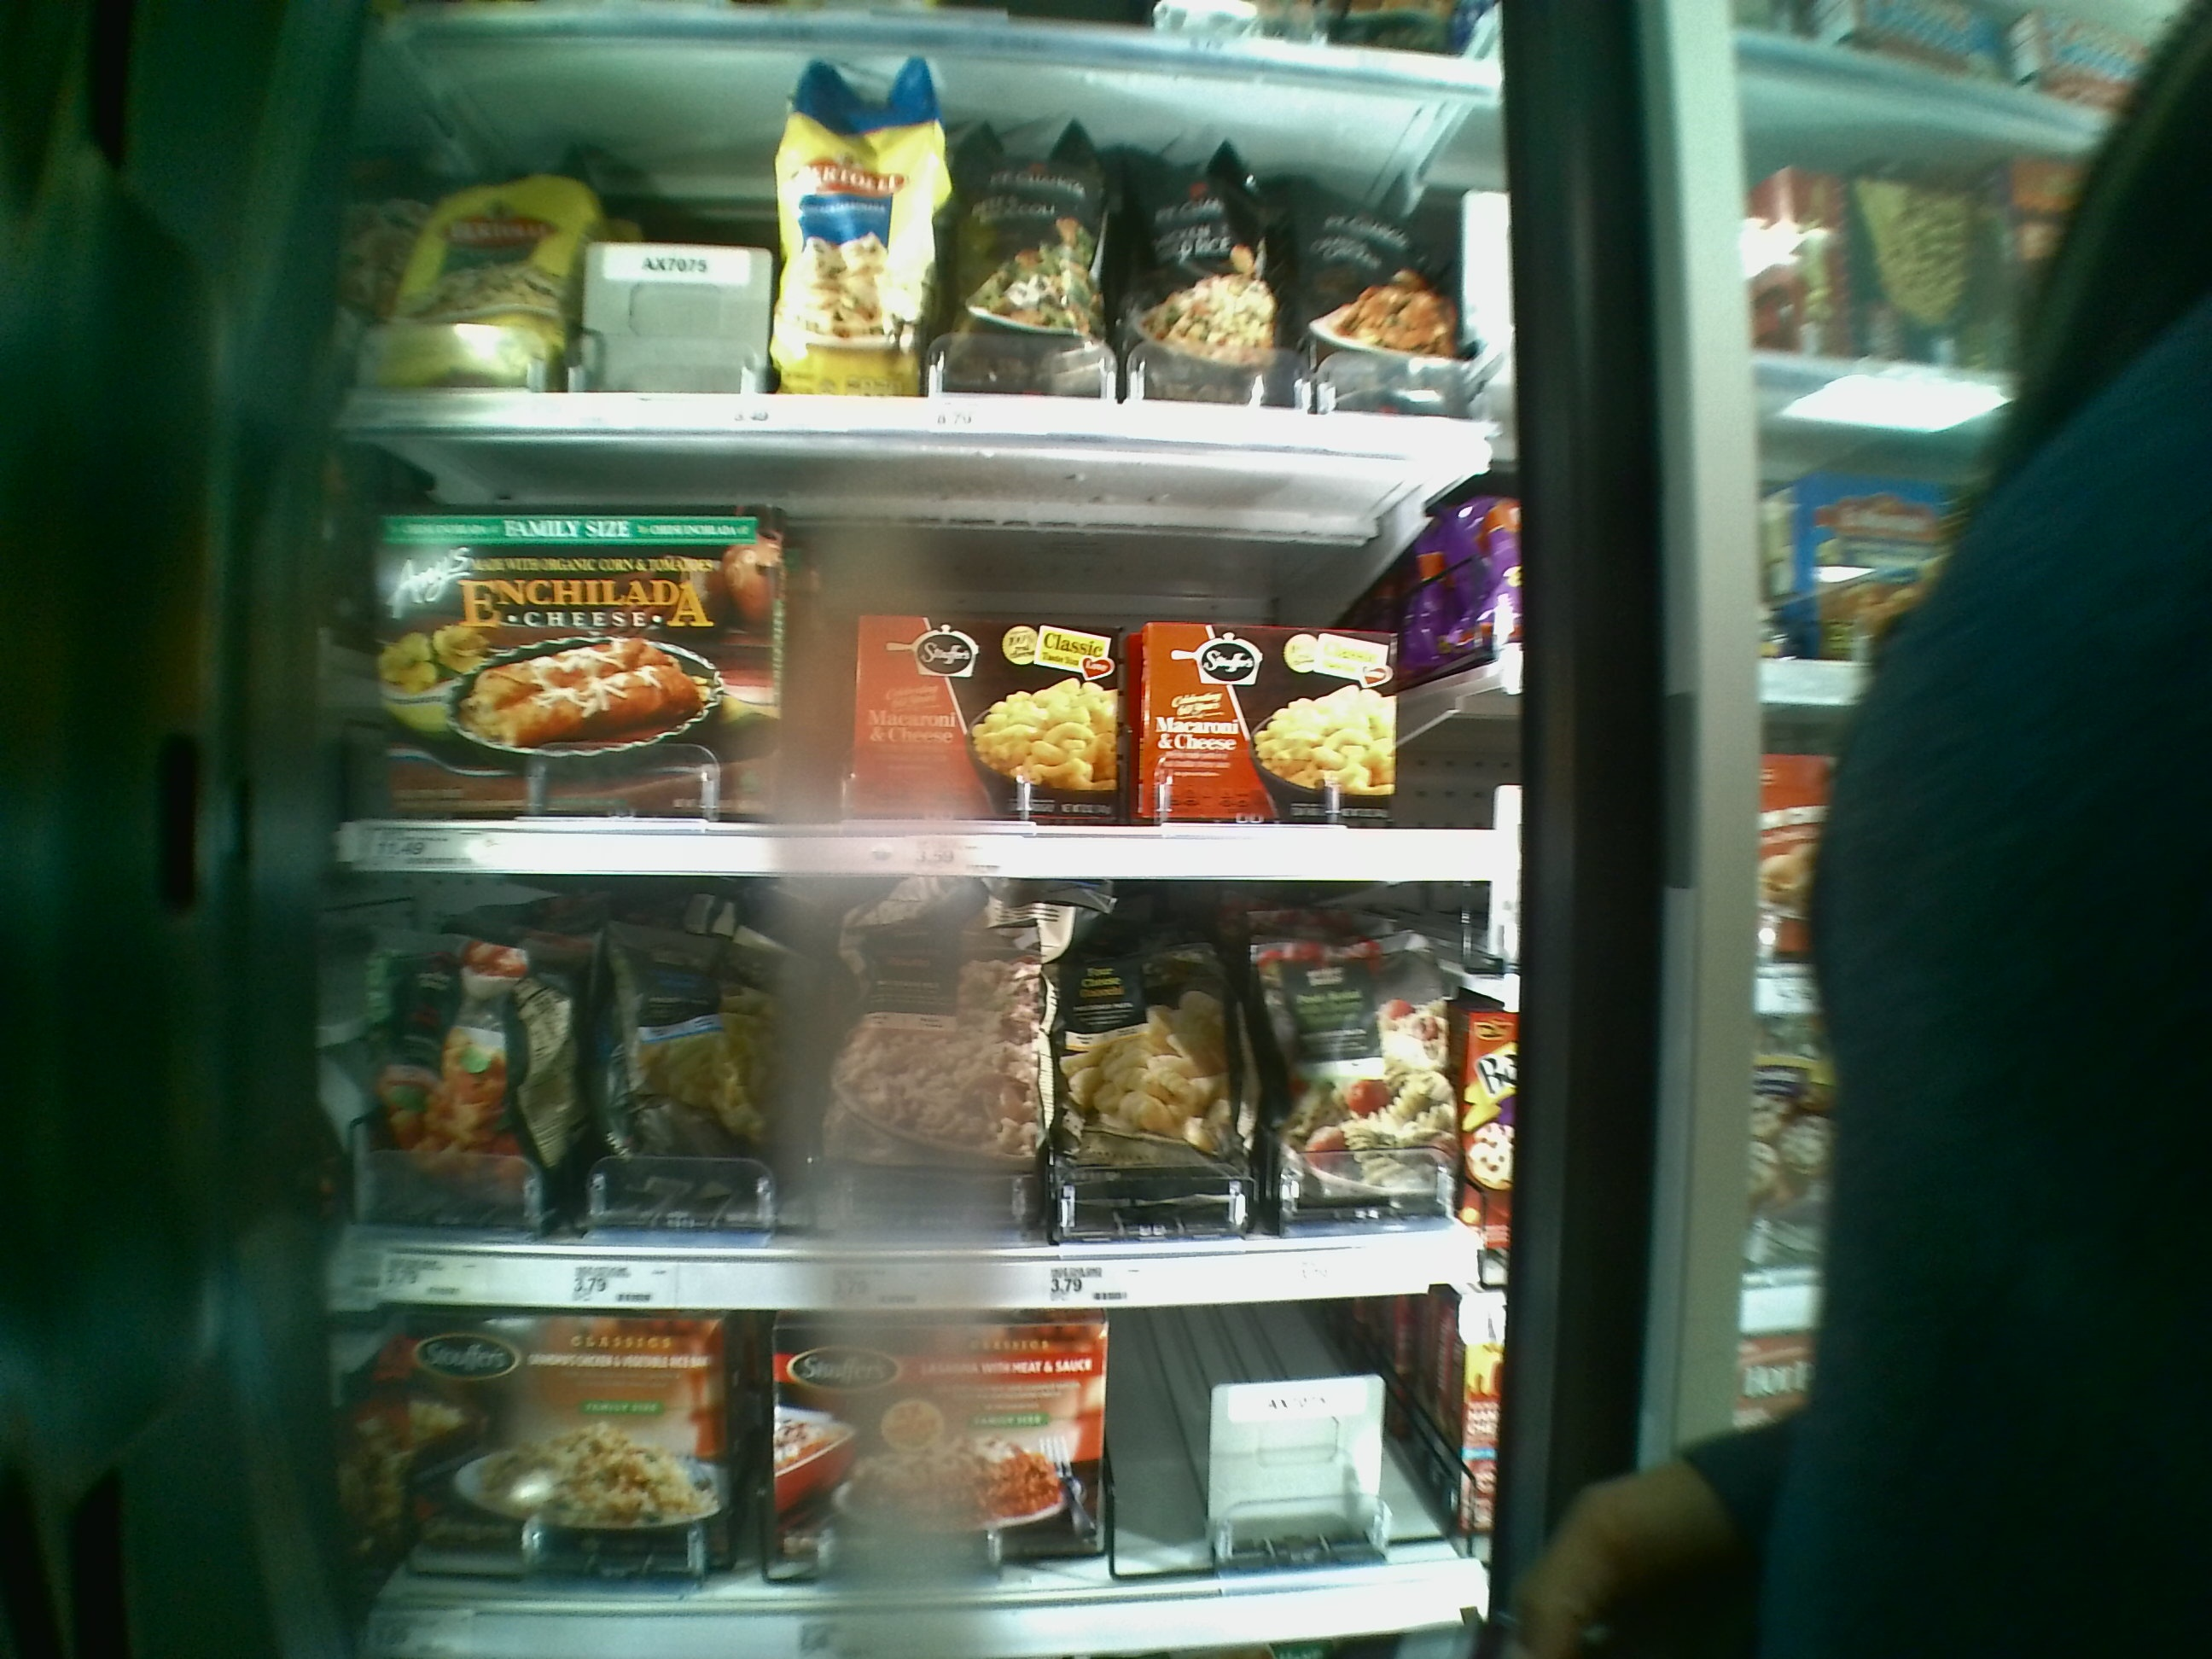shelf: (340, 458, 1503, 875), (347, 42, 1503, 460), (347, 890, 1494, 1305), (362, 1305, 1501, 1659)
